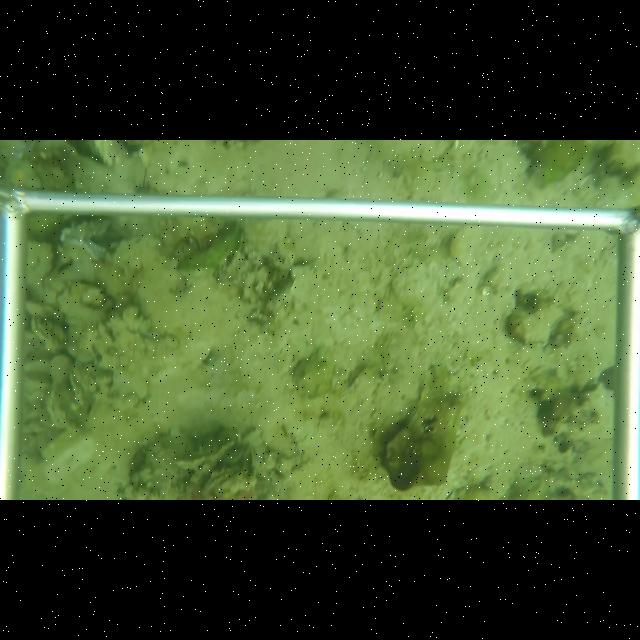Oyster-Closed: (506, 299, 568, 350), (45, 381, 76, 431), (31, 315, 63, 351)
